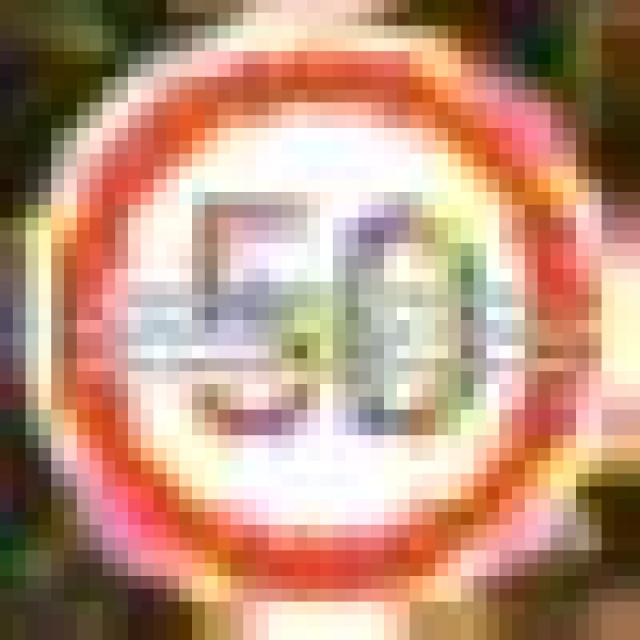SPEED_LIMIT_50: (0, 13, 627, 627)
